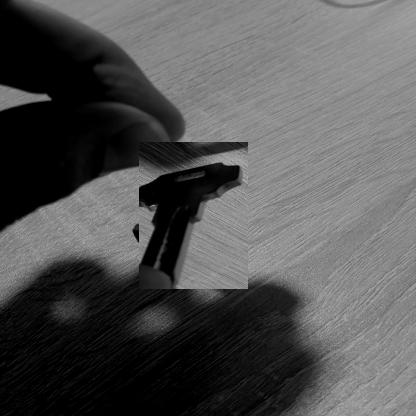key: (139, 142, 248, 289)
